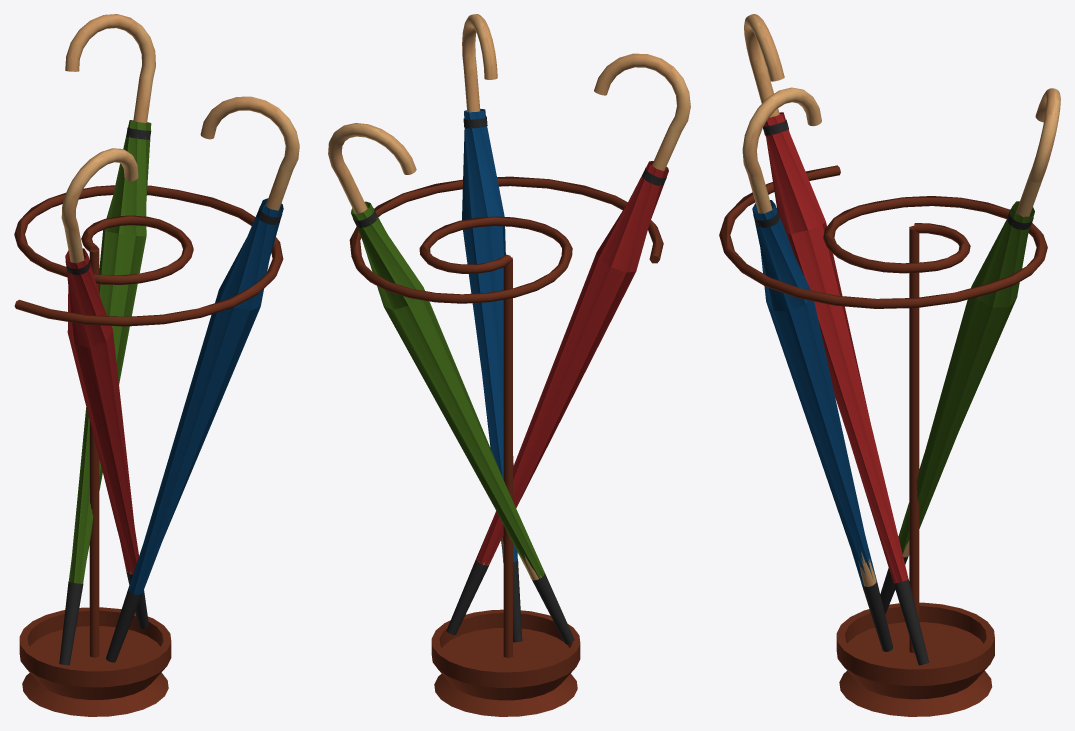
The model's file is umbrellastand2.fbx.
3 renders of one model, left to right at view 1: azimuth 30°, elevation 25°; view 2: azimuth 150°, elevation 25°; view 3: azimuth 270°, elevation 25°, orthographic. The views are drawn at different scales.
Visible parts, largest first — view 1: G_27_1_1_1; view 2: G_27_1_1_1; view 3: G_27_1_1_1.
Part boxes in pixels (left/top/right/bottom): G_27_1_1_1: left=14, top=14, right=299, bottom=716; G_27_1_1_1: left=328, top=14, right=690, bottom=716; G_27_1_1_1: left=719, top=14, right=1060, bottom=716.
Size of the model in its own units: 2918 by 6303 by 3049.
Materials: 6 (2 with a texture image).
